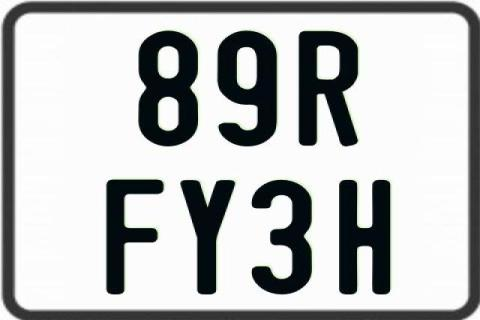0: (214, 30, 276, 150), (138, 31, 200, 150), (250, 180, 311, 298)
F: (104, 178, 165, 298)
H: (339, 178, 396, 294)
R: (297, 29, 360, 145)
Y: (182, 180, 238, 297)
